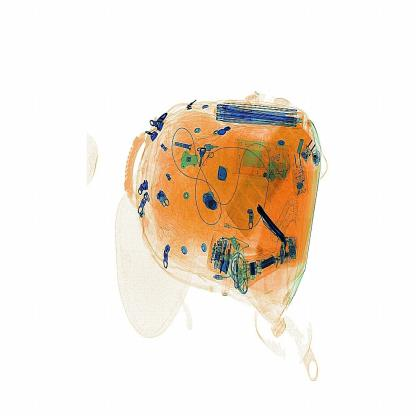knife: (257, 204, 288, 245)
